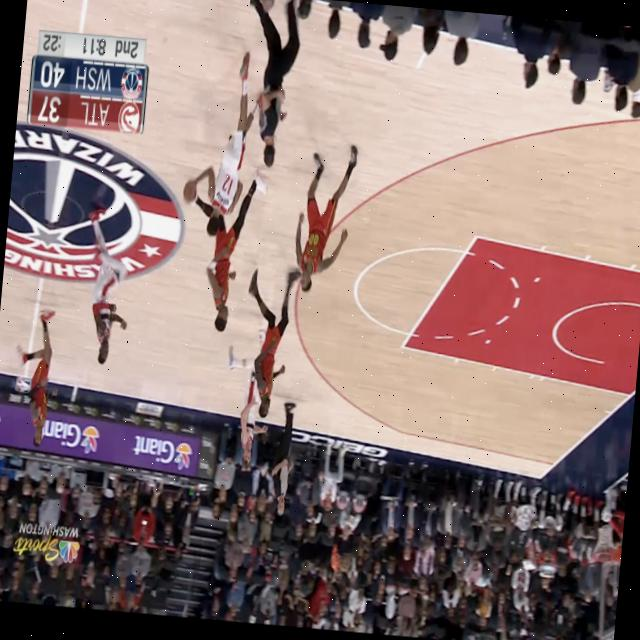no foul: (0, 208, 169, 461), (159, 73, 283, 342), (214, 258, 302, 470)
